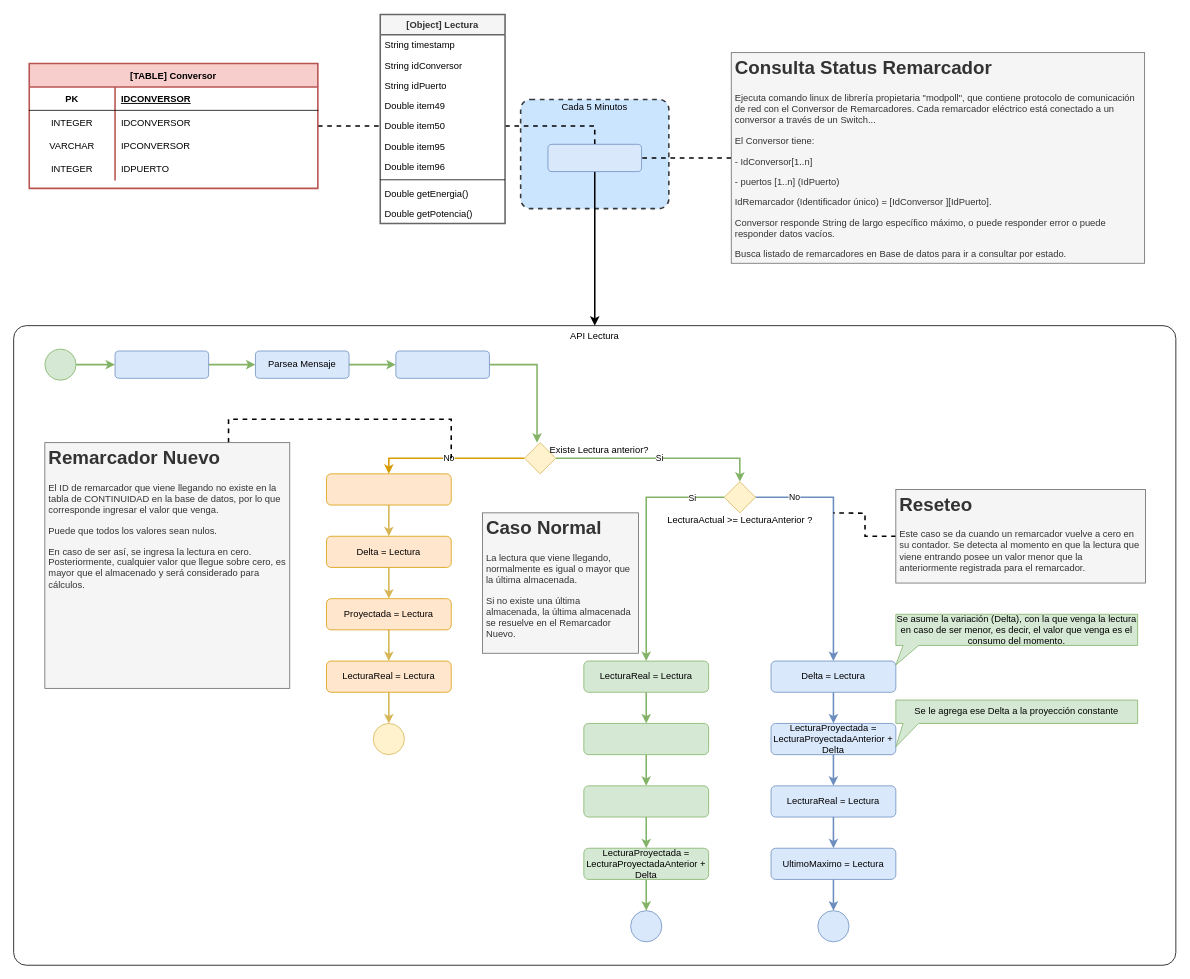
This 1190x979 diagram has some shape labels left out. The centre of each missing label's shape, as x and y in pixels:
Buscar Lectura Anterior: pixel 442 364
Delta = Lectura - LecturaAnterior: pixel 646 801
Recibe lectura de shell: pixel 161 364
Shell lectura.sh: pixel 594 158
UltimoMaximo = LecturaAnterior: pixel 646 739
UltimoMaximoNuevo = 0: pixel 388 489
